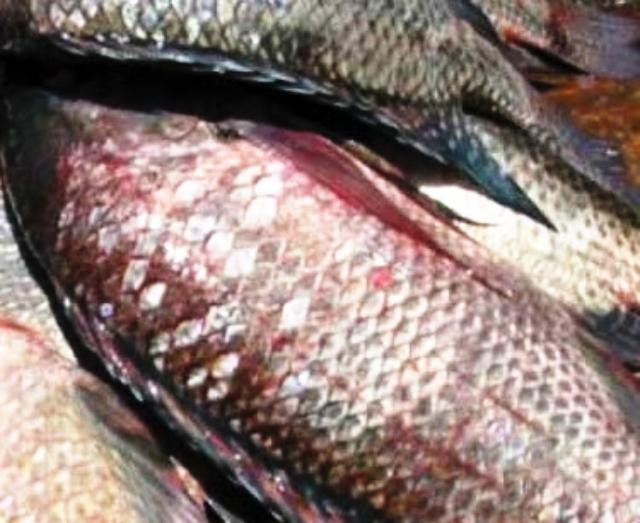Tilapia Lake Virus -TiLV-: (2, 90, 640, 521)
